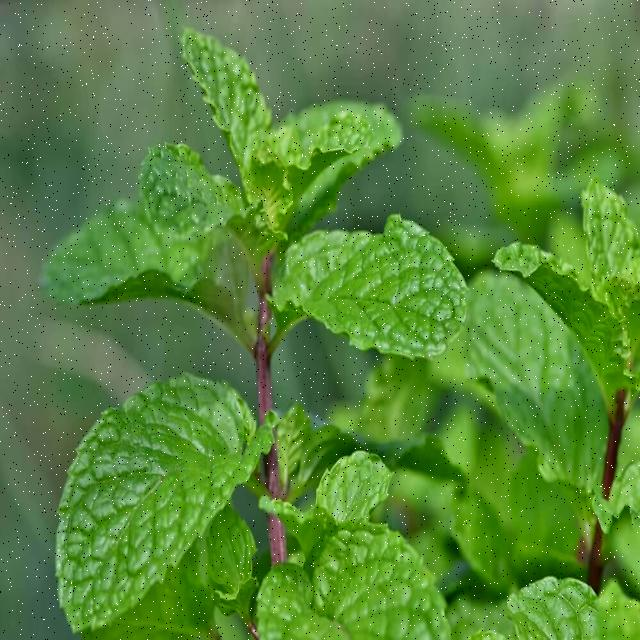Green Mint: (38, 5, 470, 406), (44, 374, 280, 630)
